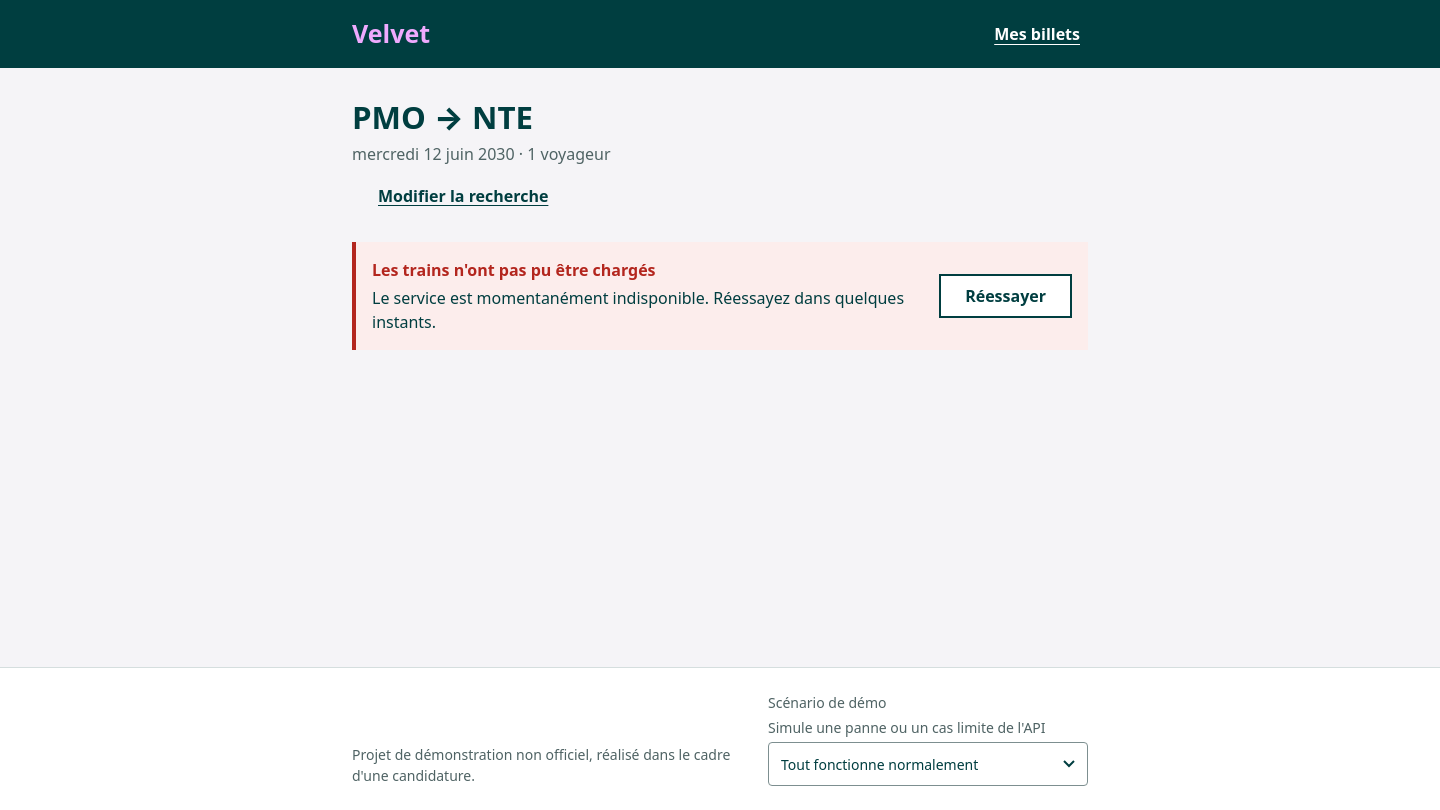
Test case: résultats de recherche › affiche une erreur récupérable et relance la recherche
Expected: the message shows "Le service est momentanément indisponible", left=372, top=287, right=904, bottom=333
Click the button "Réessayer".
click(1006, 296)  # box left=939, top=274, right=1072, bottom=318
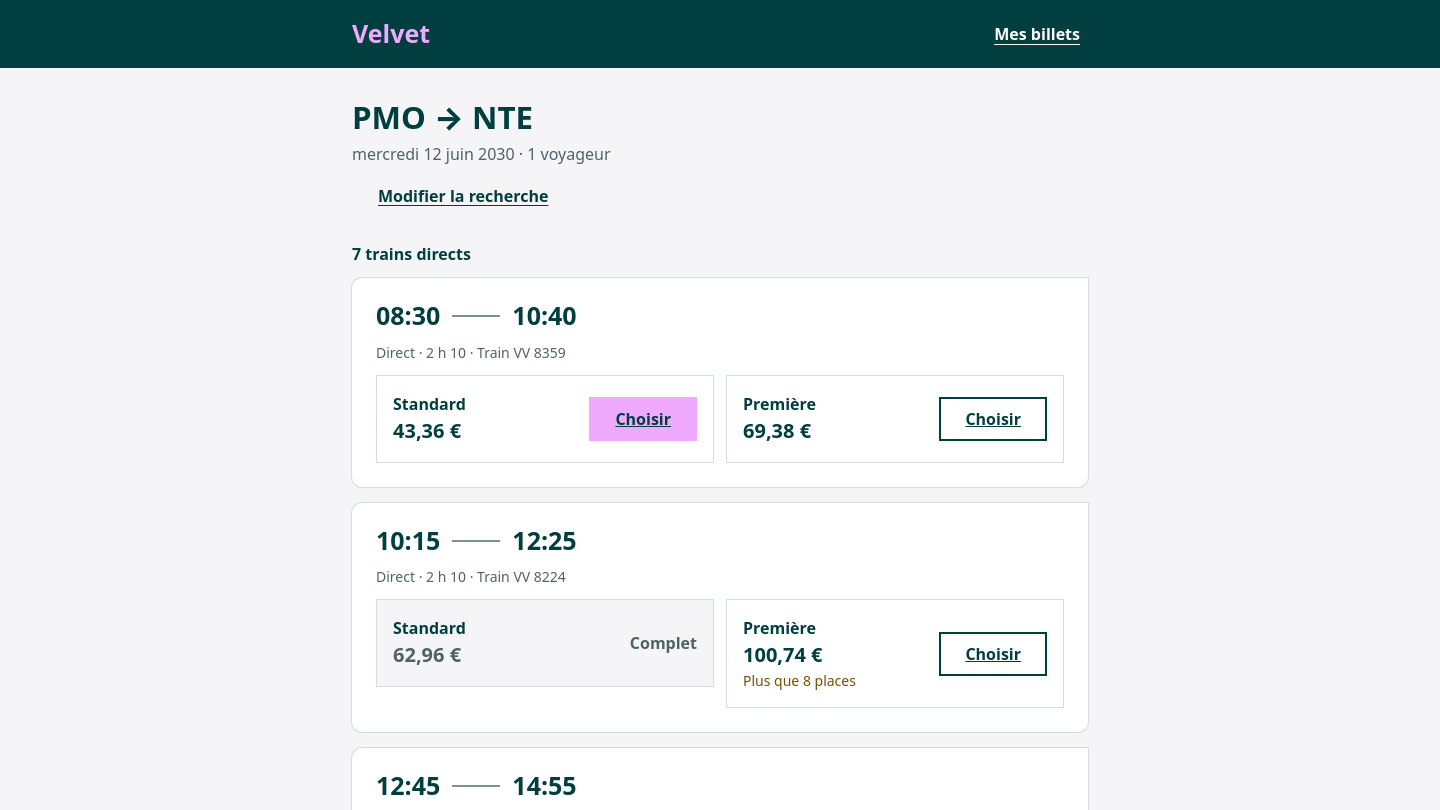
Expected: the text "7 trains directs" is shown, left=352, top=243, right=471, bottom=265
